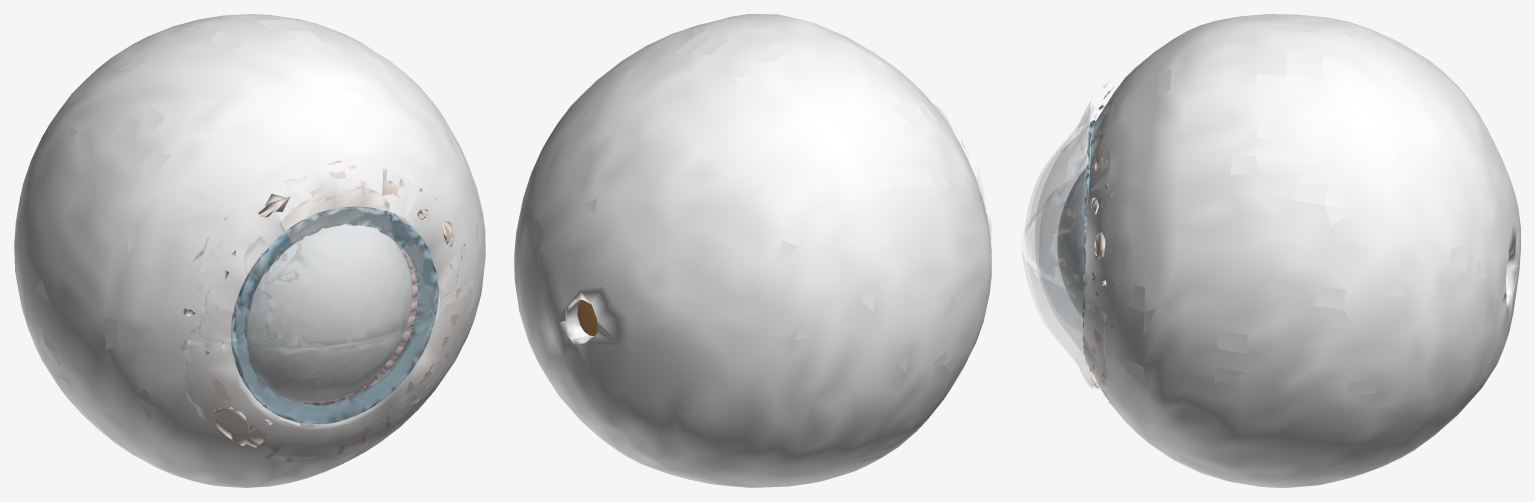
File: 3d-vh-f-eye-r-40.glb
The picture shows the model from 3 angles, left to right: view 1: azimuth 30°, elevation 25°; view 2: azimuth 150°, elevation 25°; view 3: azimuth 270°, elevation 25°; orthographic projection.
Visible parts, largest first — view 1: VH_F_sclera_R, VH_F_cornea_R, VH_F_palpebral_conjunctiva_of_right_lower_eyelid, VH_F_palpebral_conjunctiva_of_right_upper_eyelid, VH_F_aqueous_humor_R, VH_F_corneo_scleral_junction_R, VH_F_bulbar_conjunctiva_R, VH_F_ciliary_muscle_R; view 2: VH_F_sclera_R, VH_F_optic_choroid_R; view 3: VH_F_sclera_R, VH_F_cornea_R, VH_F_palpebral_conjunctiva_of_right_upper_eyelid, VH_F_palpebral_conjunctiva_of_right_lower_eyelid, VH_F_aqueous_humor_R, VH_F_bulbar_conjunctiva_R, VH_F_corneo_scleral_junction_R.
Part boxes in pixels (bbox=[...]): VH_F_sclera_R: bbox=[14, 14, 485, 487]; VH_F_cornea_R: bbox=[233, 209, 438, 423]; VH_F_palpebral_conjunctiva_of_right_lower_eyelid: bbox=[183, 276, 474, 458]; VH_F_palpebral_conjunctiva_of_right_upper_eyelid: bbox=[197, 166, 470, 345]; VH_F_aqueous_humor_R: bbox=[246, 224, 412, 402]; VH_F_corneo_scleral_junction_R: bbox=[231, 206, 438, 423]; VH_F_bulbar_conjunctiva_R: bbox=[180, 160, 469, 461]; VH_F_ciliary_muscle_R: bbox=[295, 242, 417, 404]; VH_F_sclera_R: bbox=[514, 14, 991, 487]; VH_F_optic_choroid_R: bbox=[577, 299, 597, 335]; VH_F_sclera_R: bbox=[1083, 14, 1520, 487]; VH_F_cornea_R: bbox=[1035, 122, 1092, 355]; VH_F_palpebral_conjunctiva_of_right_upper_eyelid: bbox=[1025, 82, 1108, 311]; VH_F_palpebral_conjunctiva_of_right_lower_eyelid: bbox=[1021, 221, 1108, 390]; VH_F_aqueous_humor_R: bbox=[1057, 168, 1087, 317]; VH_F_bulbar_conjunctiva_R: bbox=[1089, 87, 1116, 404]; VH_F_corneo_scleral_junction_R: bbox=[1082, 120, 1095, 354].
Size of the model in its own units: 0.0245 by 0.0244 by 0.0257.
